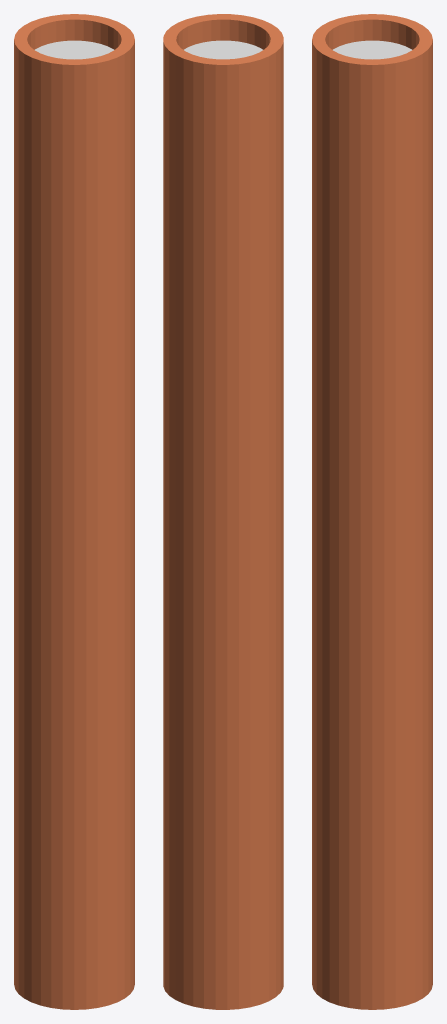
The model's file is wood.fbx.
3 views of the same model, side by side, from view 1: azimuth 90°, elevation 25°; view 2: azimuth 150°, elevation 25°; view 3: azimuth 270°, elevation 25° (orthographic).
Visible parts, largest first — view 1: Cylinder; view 2: Cylinder; view 3: Cylinder.
Boxes of the visible parts, x1,y1,x2,y2 form: Cylinder: (14, 14, 134, 1009); Cylinder: (163, 14, 283, 1009); Cylinder: (312, 14, 432, 1009).
Size of the model in its own units: 200 by 1725 by 200.
